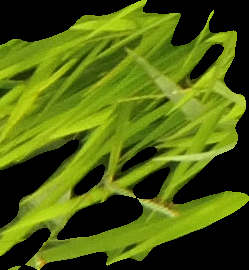grass: (1, 1, 248, 269)
